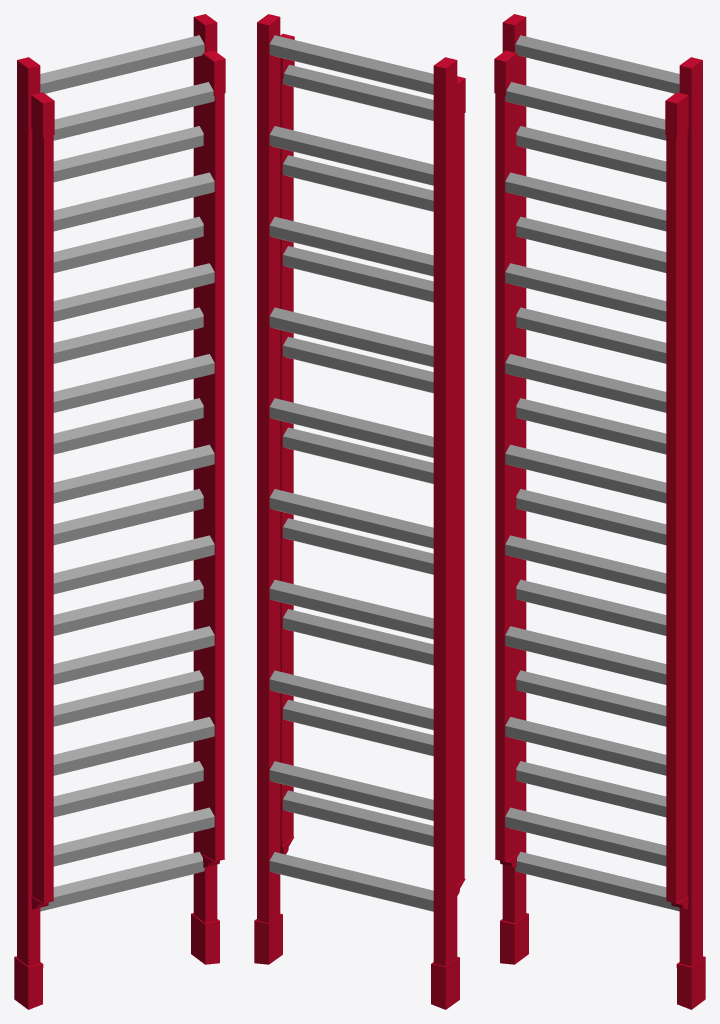
File: Ladder.fbx
3 renders of one model, left to right at view 1: azimuth 30°, elevation 25°; view 2: azimuth 150°, elevation 25°; view 3: azimuth 330°, elevation 25°, orthographic.
Parts seen in each view (by area): view 1: InnerLadder, OuterLadder; view 2: OuterLadder, InnerLadder; view 3: InnerLadder, OuterLadder.
Boxes of the visible parts, x1=… form: InnerLadder: x1=31, y1=50, x2=225, y2=909; OuterLadder: x1=14, y1=14, x2=219, y2=1009; OuterLadder: x1=254, y1=14, x2=459, y2=1009; InnerLadder: x1=280, y1=33, x2=465, y2=895; InnerLadder: x1=494, y1=50, x2=688, y2=909; OuterLadder: x1=500, y1=14, x2=705, y2=1009.
Size of the model in its own units: 66.1 by 310 by 14.58.
